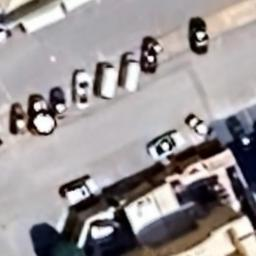SUV: (63, 174, 96, 205)
sedan: (146, 130, 184, 158), (226, 115, 252, 151), (187, 112, 218, 140), (191, 17, 209, 54), (143, 37, 161, 72), (76, 70, 90, 112), (12, 102, 26, 137), (51, 86, 66, 116)
truck: (94, 62, 118, 102), (120, 50, 142, 93)
